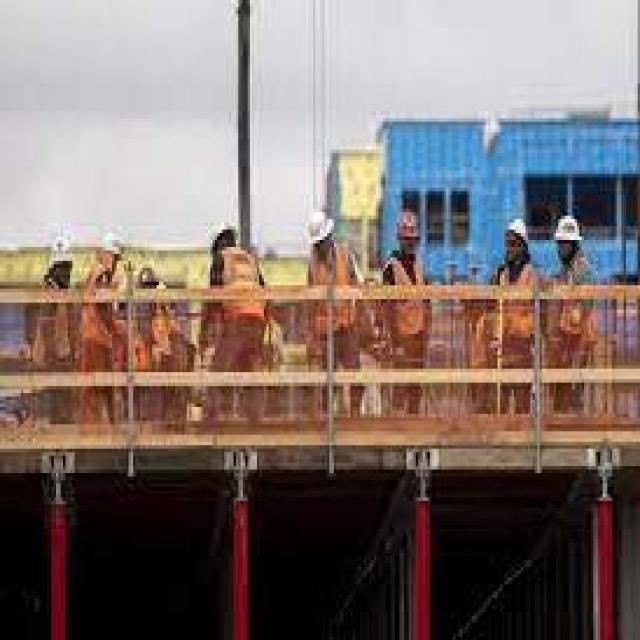Reflective-Jacket: (75, 264, 128, 362), (549, 257, 600, 348), (383, 250, 430, 341), (495, 257, 537, 348)
Safety-Helmet: (201, 209, 243, 257), (299, 205, 339, 254), (552, 209, 586, 250), (500, 212, 532, 251), (392, 205, 423, 244)
